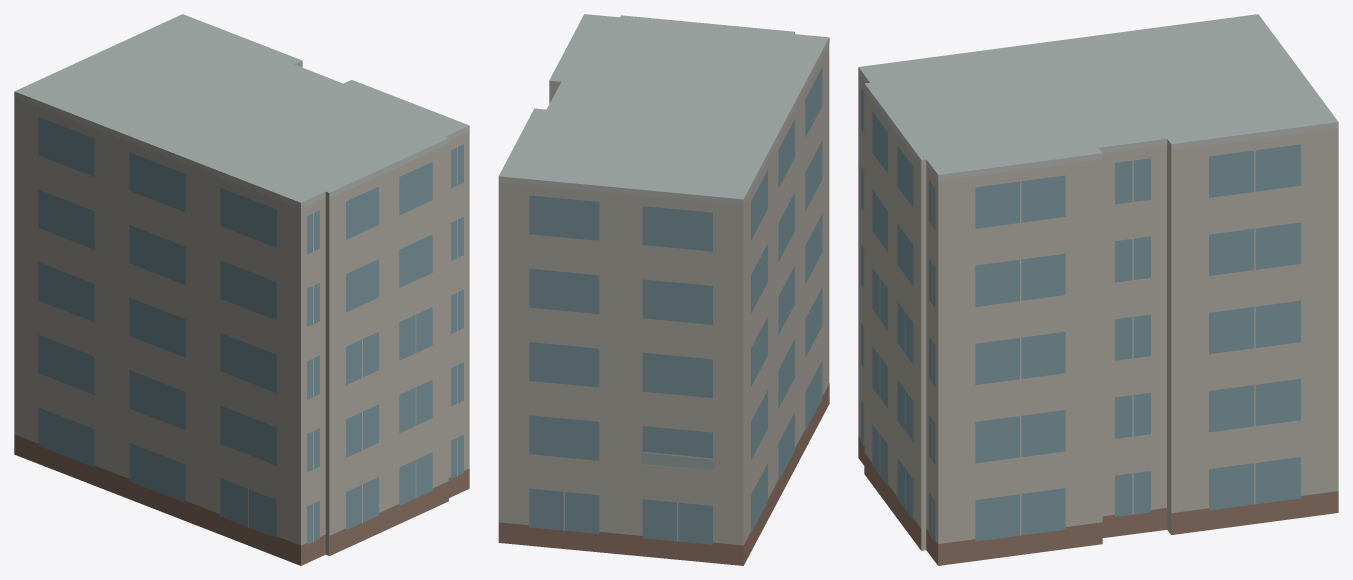
Rendered from survey-upis-32610702.glb.
The picture shows the model from 3 angles, left to right: view 1: azimuth 30°, elevation 25°; view 2: azimuth 150°, elevation 25°; view 3: azimuth 270°, elevation 25°; orthographic projection. The views are drawn at different scales.
Parts seen in each view (by area): view 1: survey-upis-32610702.tmp; view 2: survey-upis-32610702.tmp; view 3: survey-upis-32610702.tmp.
Part boxes in pixels (left/top/right/bottom): survey-upis-32610702.tmp: left=14, top=14, right=469, bottom=565; survey-upis-32610702.tmp: left=498, top=14, right=829, bottom=565; survey-upis-32610702.tmp: left=858, top=14, right=1338, bottom=565.
Size of the model in its own units: 13.48 by 15.25 by 16.99.
